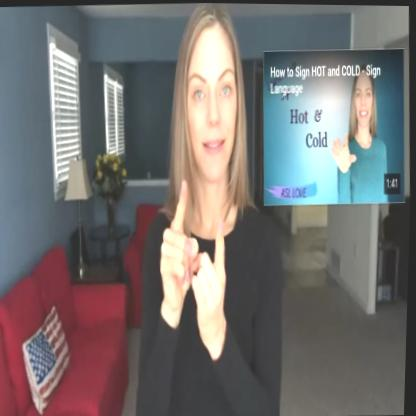NiceToMeetYou: (124, 2, 295, 416)
